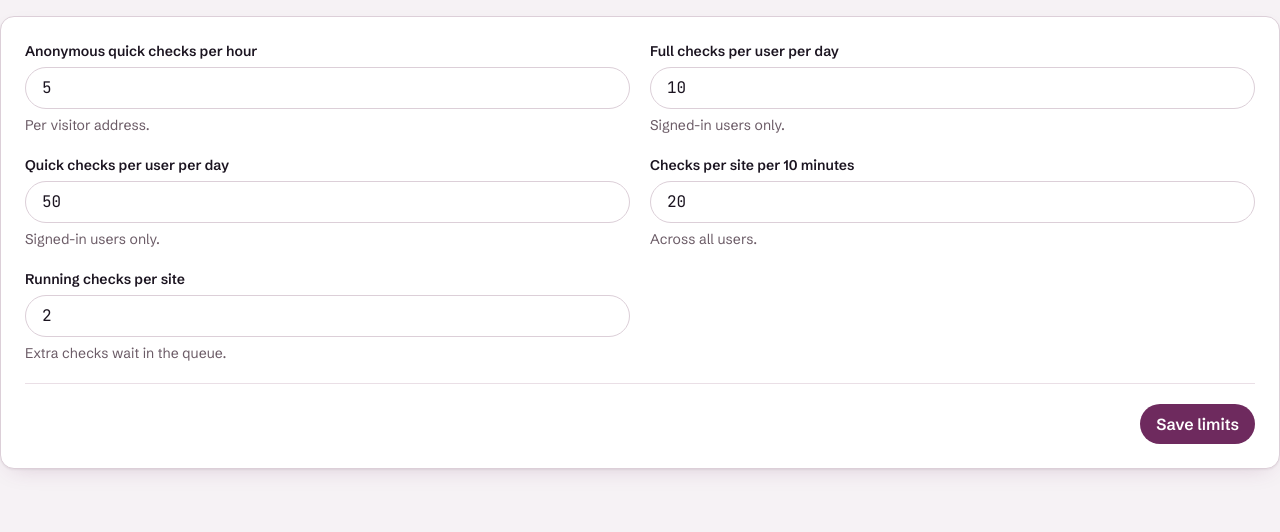
Test: LimitsForm › shows a form-level alert for errors that name no field
Step 1. Click the button "Save limits" → (1198, 424), box x1=1140 y1=404 x2=1255 y2=444
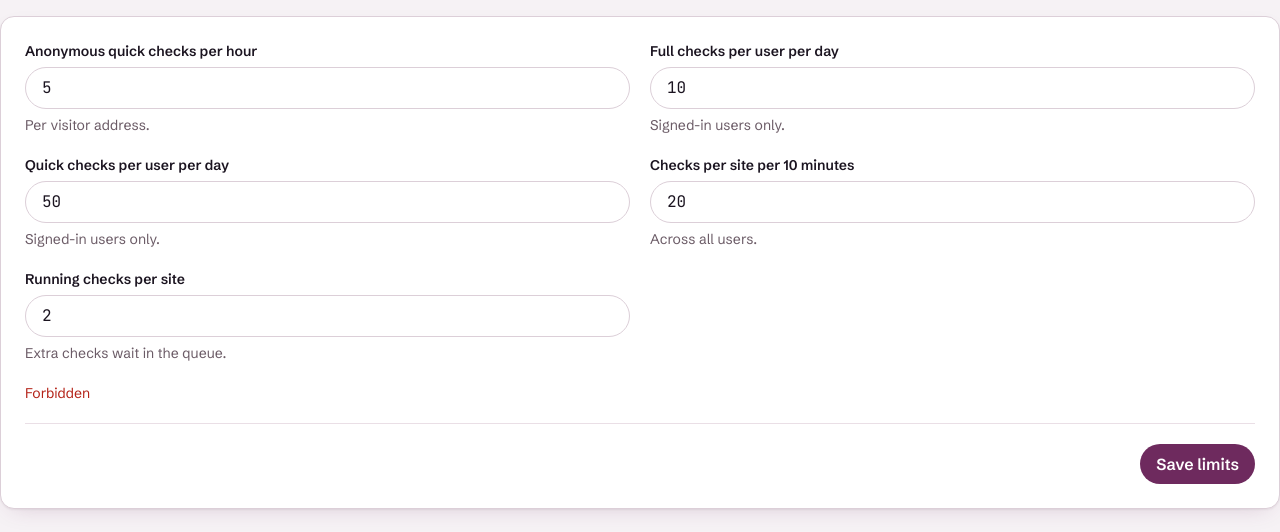
Expected: the message reads "Forbidden", x1=25 y1=384 x2=90 y2=402
